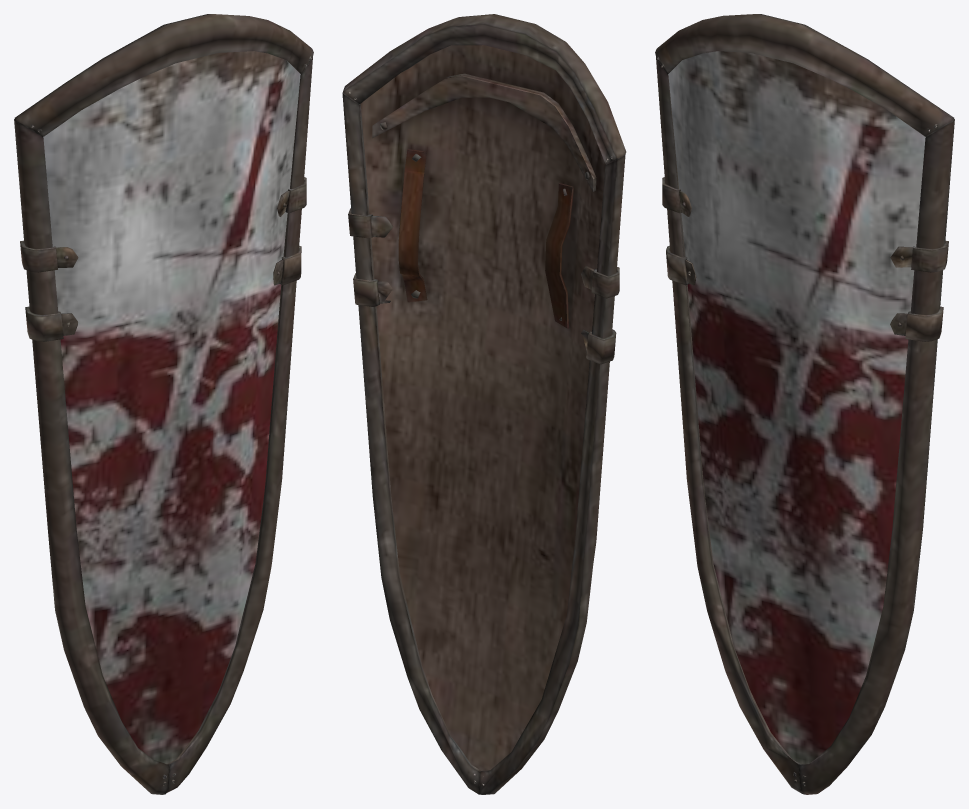
File: shield-kite.lite.a214c25e.glb
3 renders of one model, left to right at view 1: azimuth 30°, elevation 25°; view 2: azimuth 150°, elevation 25°; view 3: azimuth 330°, elevation 25°, orthographic. The views are drawn at different scales.
Parts seen in each view (by area): view 1: model; view 2: model; view 3: model.
Boxes of the visible parts, bbox=[...] form: model: bbox=[14, 14, 313, 794]; model: bbox=[342, 14, 626, 794]; model: bbox=[655, 14, 954, 794].
Bounding box in the file's own units: 0.5432 × 1.39 × 0.1347.
Materials: 2 (2 with a texture image).
